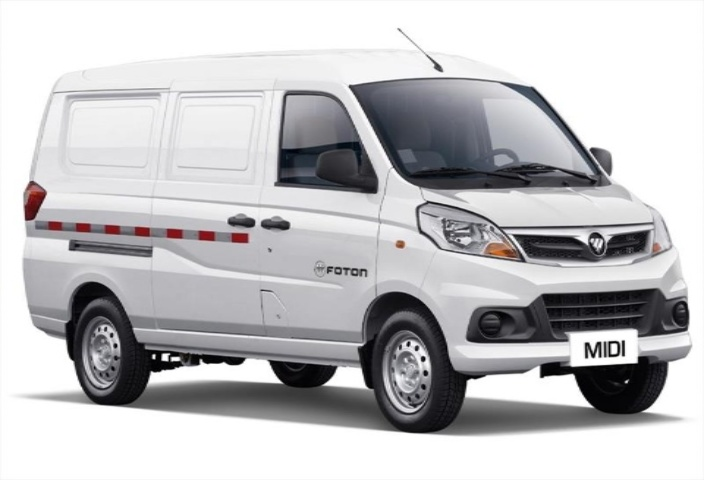van: (23, 40, 692, 430)
